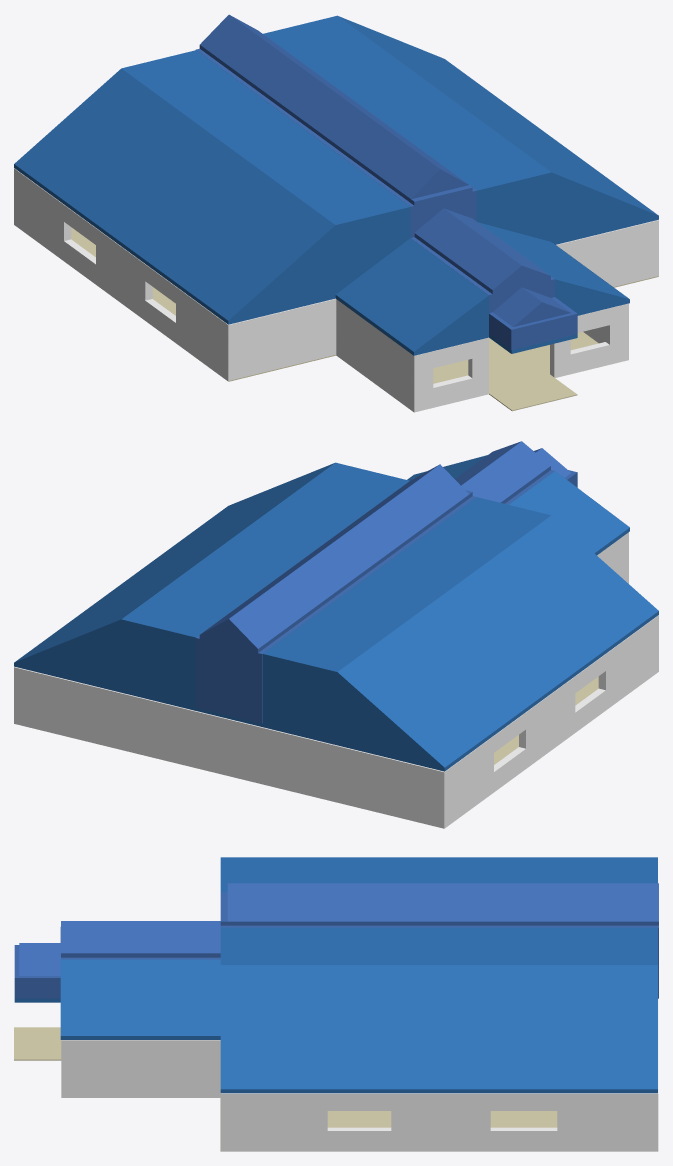
File: Perpustakaan.fbx
The picture shows the model from 3 angles, top to bottom: view 1: azimuth 30°, elevation 25°; view 2: azimuth 150°, elevation 25°; view 3: azimuth 270°, elevation 25°; orthographic projection. The views are drawn at different scales.
Visible parts, largest first — view 1: Cube; view 2: Cube; view 3: Cube.
Boxes of the visible parts, x1=… form: Cube: x1=14, y1=14, x2=658, y2=412; Cube: x1=14, y1=441, x2=658, y2=828; Cube: x1=14, y1=857, x2=658, y2=1151.
Bounding box in the file's own units: 3095 × 1083 × 3933.
Materials: 1 (1 with a texture image).
